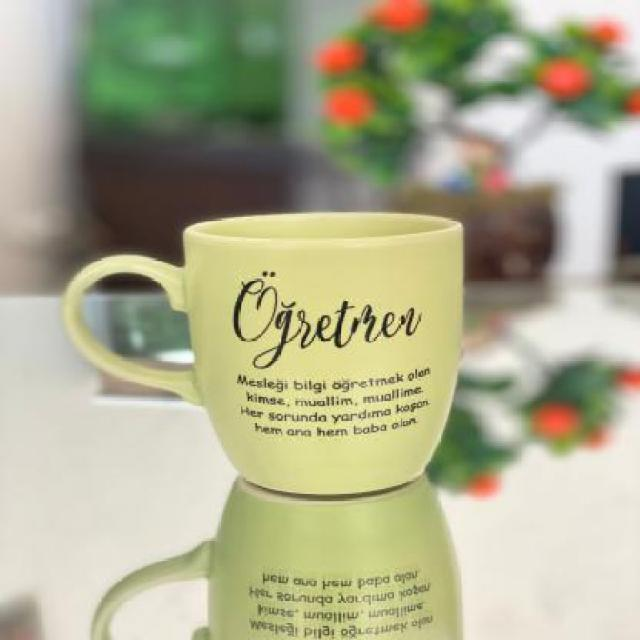taza: (60, 214, 468, 494)
